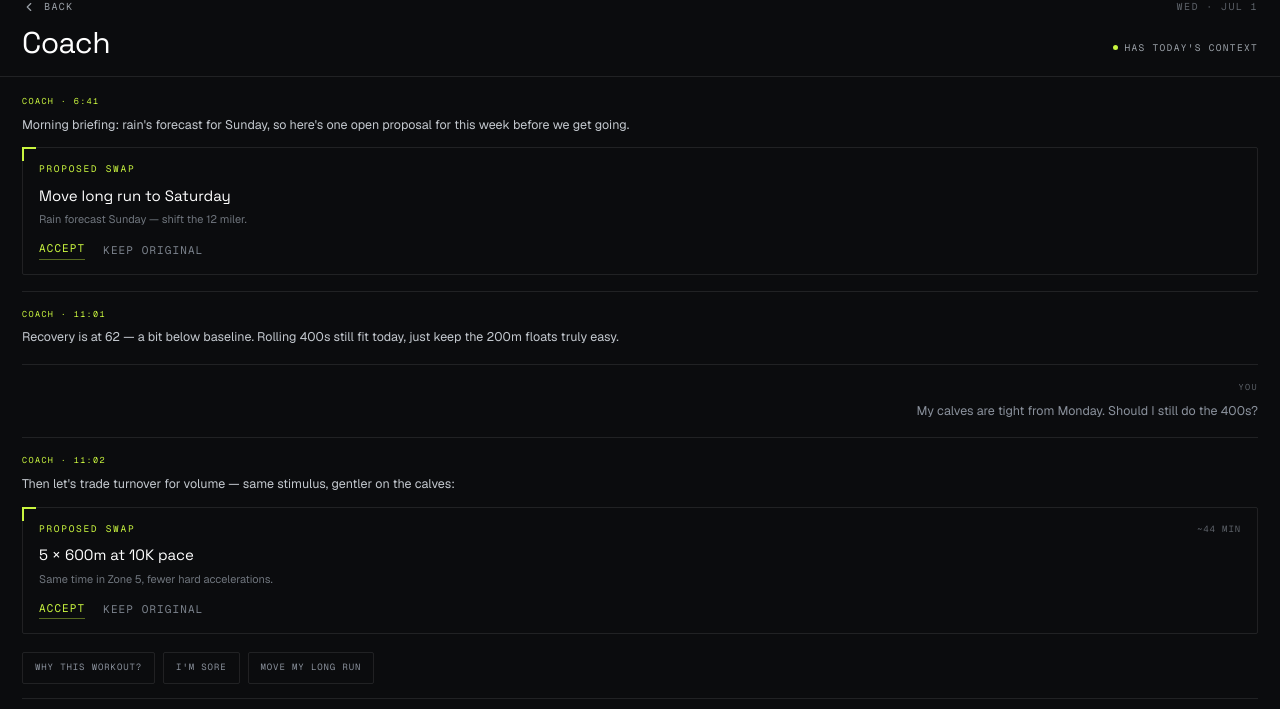
Test: clicking a quick-prompt chip sends it as a user message and gets the fixed reply
Expected: the text "Coach" is shown, [22,28,110,58]
Click the button "I'M SORE".
click(201, 668)  # box [163,652,240,684]
(page scrolled)
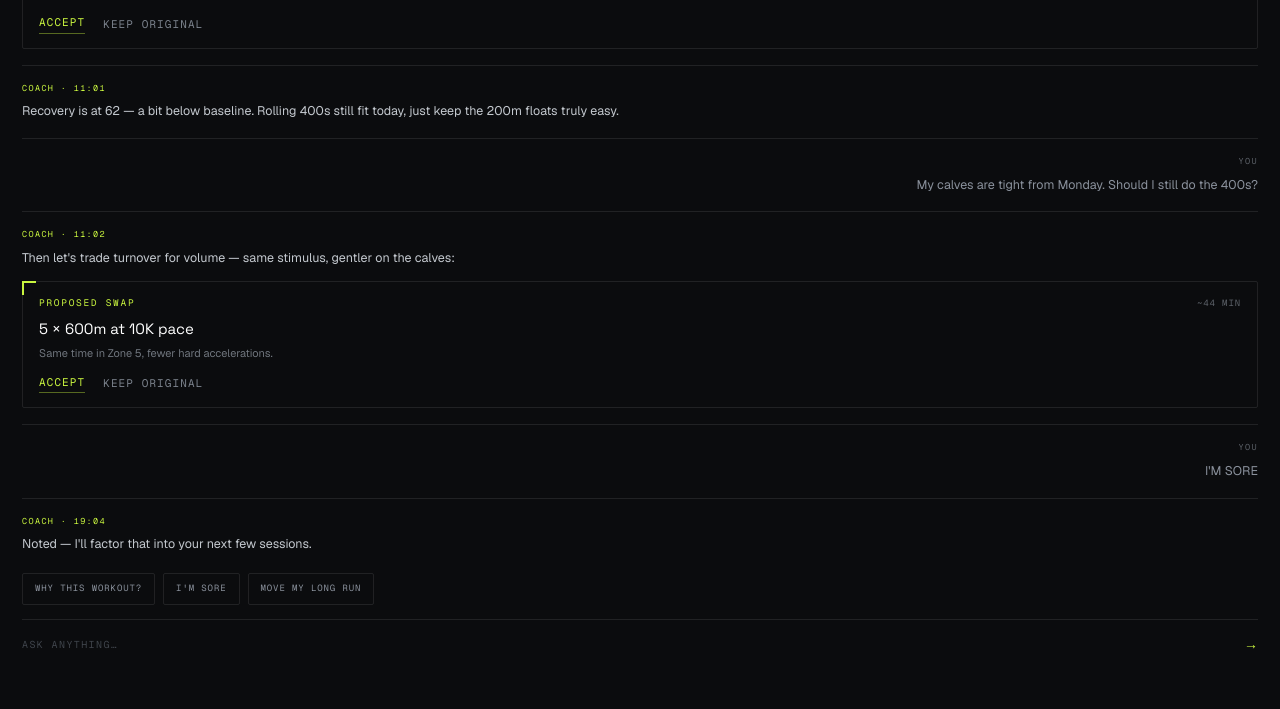
Expected: the text "I'M SORE" is shown, [1205,462,1258,479]
Expected: the text "Noted — I'll factor that into your next few sessions." is shown, [22,536,312,552]
